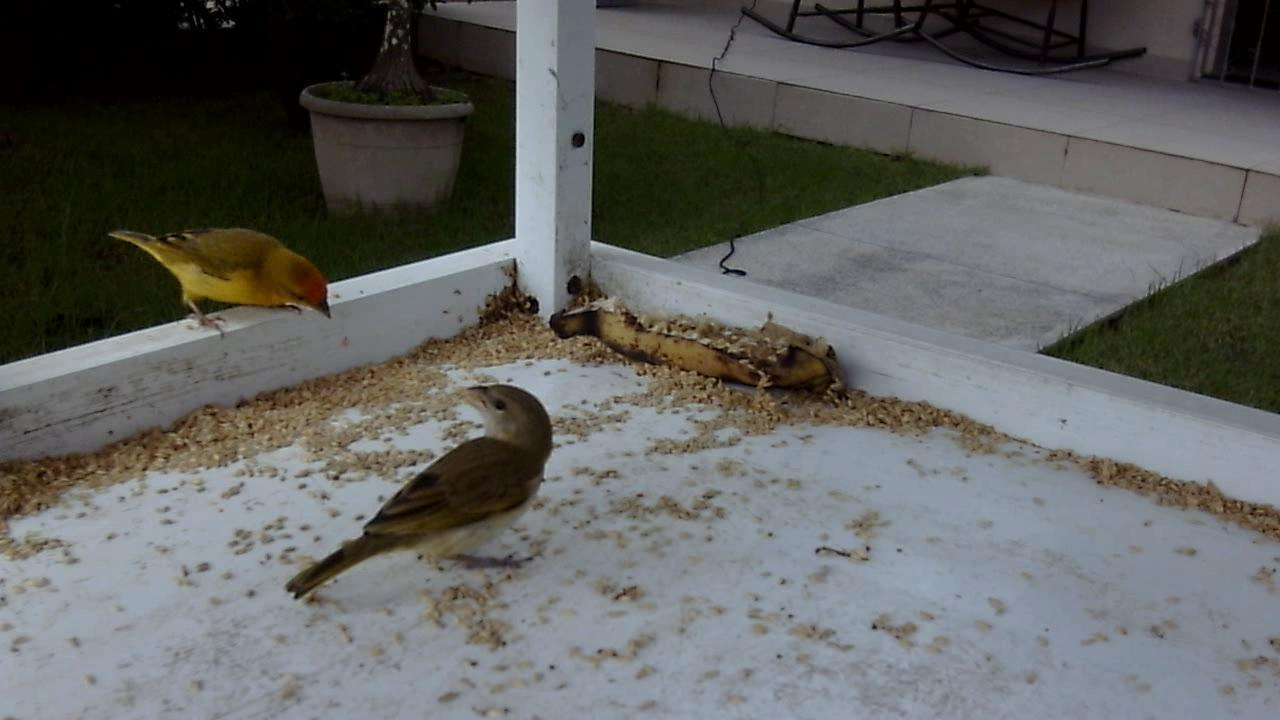canario_do_amazonas: (277, 378, 564, 609), (99, 218, 337, 349)
